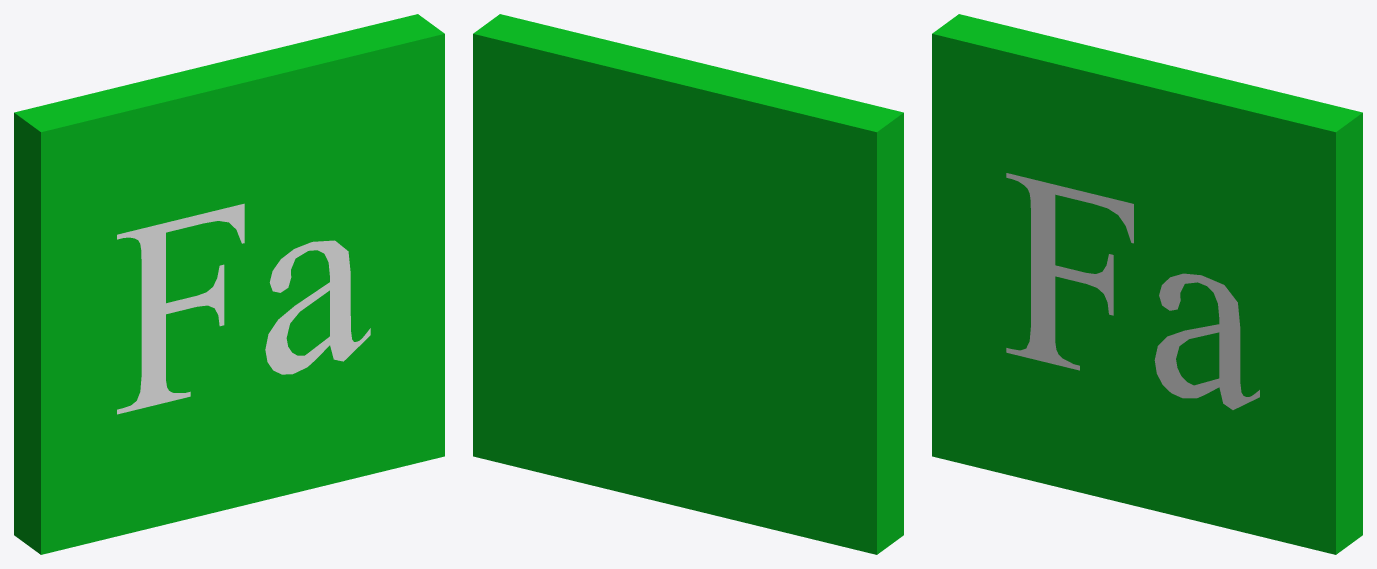
3 renders of one model, left to right at view 1: azimuth 30°, elevation 25°; view 2: azimuth 150°, elevation 25°; view 3: azimuth 330°, elevation 25°, orthographic.
Visible parts, largest first — view 1: Fa; view 2: Fa; view 3: Fa.
Part boxes in pixels (box(x1,y1,x2,y2)): Fa: box(14, 14, 444, 554); Fa: box(473, 14, 903, 554); Fa: box(932, 14, 1362, 554).
Bounding box in the file's own units: 15.64 × 15.64 × 1.87.
